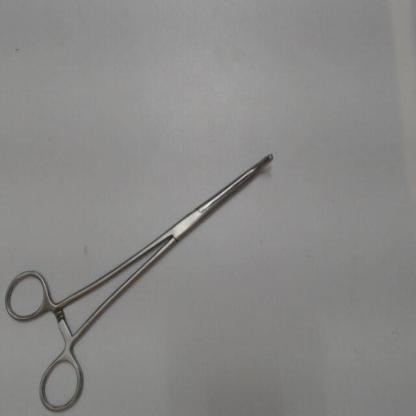Lahey Forceps: (1, 142, 281, 415)
